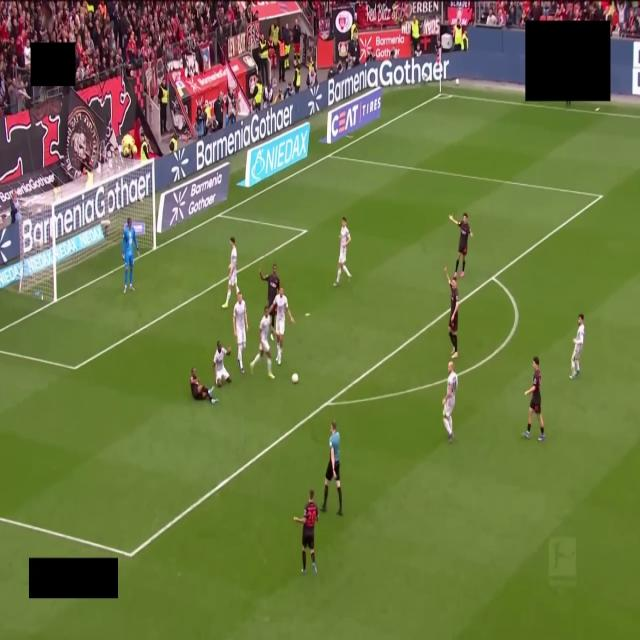ball: (292, 374, 298, 383)
player: (294, 490, 318, 573), (270, 288, 294, 365), (523, 357, 545, 441), (250, 307, 274, 378), (449, 213, 472, 277), (445, 266, 459, 359), (232, 292, 248, 373), (122, 218, 139, 293), (222, 237, 239, 308), (443, 362, 457, 443), (334, 217, 350, 287), (190, 368, 217, 404), (570, 314, 584, 379), (259, 264, 279, 307), (213, 342, 231, 387)
referee: (322, 421, 342, 515)
